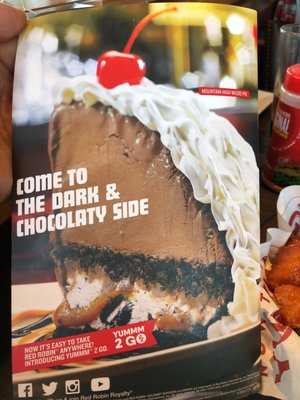burger: (261, 3, 300, 194)
